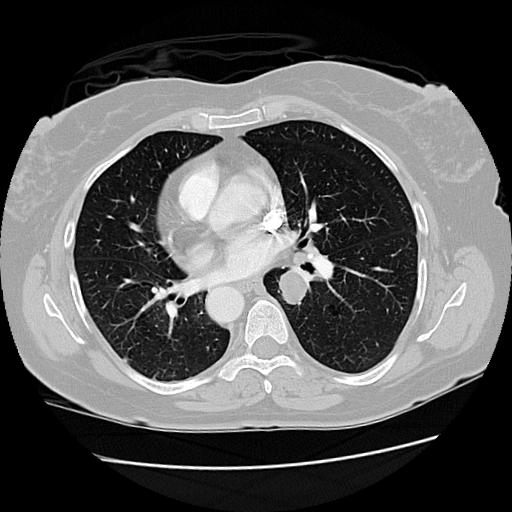nodule: (275, 269, 313, 307)
